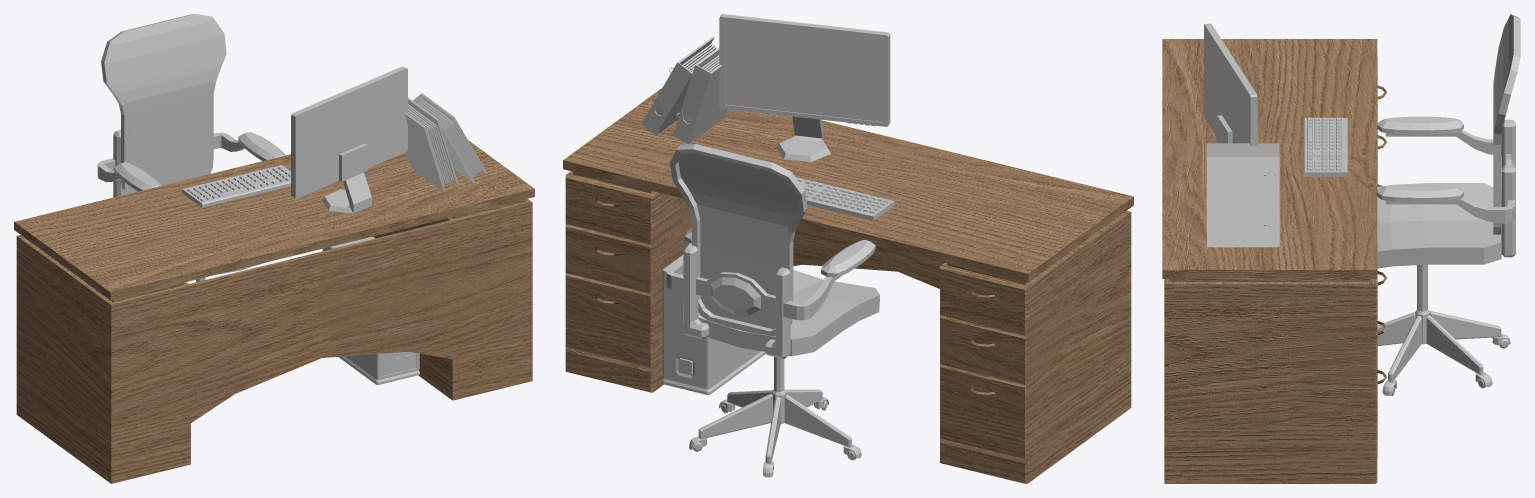
Rendered from Desk3.fbx.
3 renders of one model, left to right at view 1: azimuth 30°, elevation 25°; view 2: azimuth 150°, elevation 25°; view 3: azimuth 270°, elevation 25°, orthographic. The views are drawn at different scales.
Parts seen in each view (by area): view 1: table_B__3_, Computer_chair__1_, computer_screen__3_, Folder__1_, Keyboard__3_, Computer__3_, Folder__3_; view 2: table_B__3_, Computer_chair__1_, computer_screen__3_, Computer__3_, Folder__1_, Folder__3_, Keyboard__3_; view 3: table_B__3_, Computer_chair__1_, Folder__3_, computer_screen__3_, Keyboard__3_, Folder__1_.
Boxes of the visible parts, x1,y1,x2,y2 form: table_B__3_: [14, 140, 534, 483]; Computer_chair__1_: [97, 14, 285, 281]; computer_screen__3_: [291, 66, 407, 213]; Folder__1_: [405, 97, 458, 191]; Keyboard__3_: [182, 165, 290, 207]; Computer__3_: [322, 236, 419, 384]; Folder__3_: [413, 93, 486, 183]; table_B__3_: [563, 88, 1133, 483]; Computer_chair__1_: [666, 144, 879, 477]; computer_screen__3_: [719, 14, 890, 162]; Computer__3_: [662, 255, 765, 394]; Folder__1_: [673, 47, 727, 143]; Folder__3_: [641, 36, 717, 135]; Keyboard__3_: [796, 177, 894, 220]; table_B__3_: [1162, 39, 1387, 483]; Computer_chair__1_: [1377, 14, 1520, 395]; Folder__3_: [1207, 156, 1279, 247]; computer_screen__3_: [1204, 23, 1257, 145]; Keyboard__3_: [1303, 117, 1347, 176]; Folder__1_: [1206, 143, 1279, 234].
Size of the model in its own units: 199 by 137 by 130.
